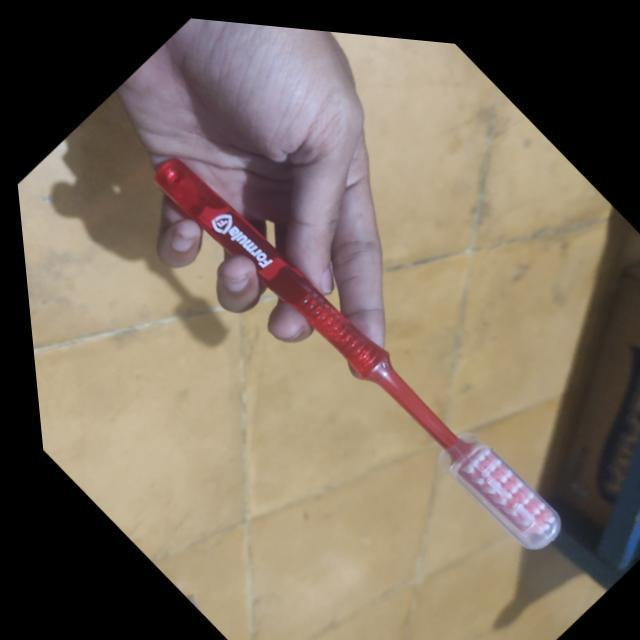toothbrush: (106, 96, 598, 600)
